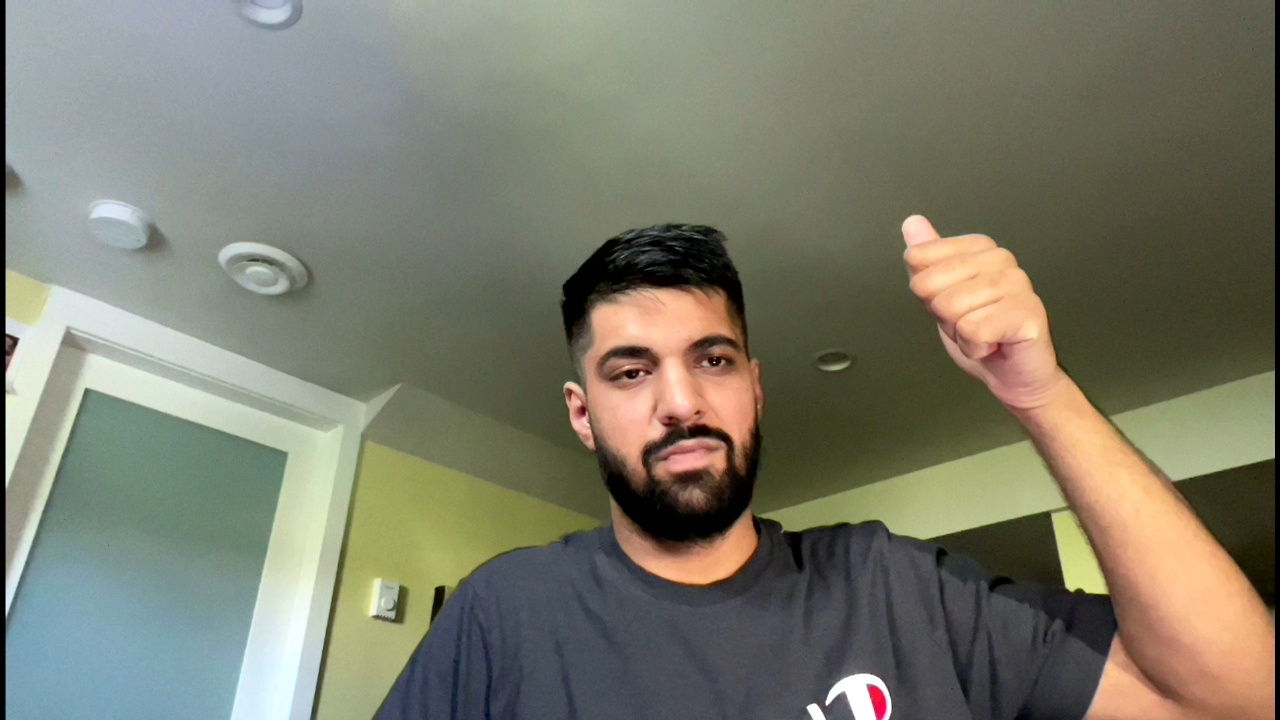Yes: (895, 211, 1074, 397)
